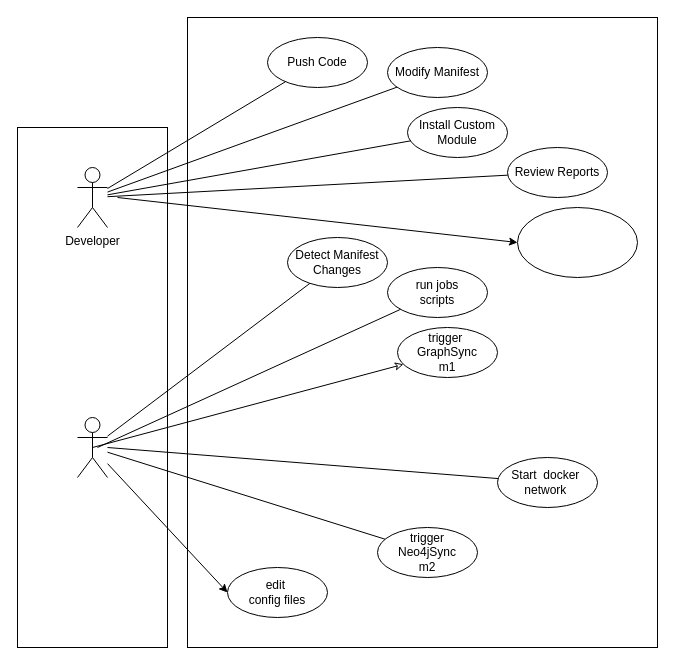
The diagram is 675 pixels wide and 665 high, and some of its shapes have lost their labels. Here are the shapes that lost their labels. From the top down, the centre of each, then its label:
At [577,242]: "visualize modules dependecies".
At [92,447]: "GitHub Actions Workflow".
